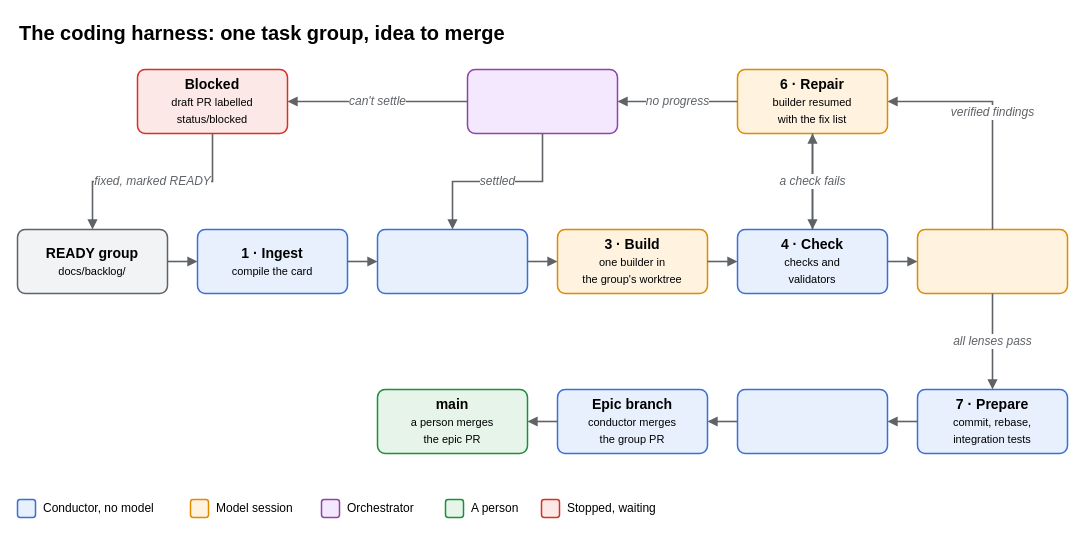
Some shapes in this 1086 by 537 pixel diagram are drawn without their labels. The shapes that lost their labels are listed below. From the top down, each one's box as (x1, y1, x2, y2) in pixels, then its label:
(466, 68, 618, 134): Orchestrator settles stops
(376, 228, 528, 294): 2 · Coordinate worktree, context, pacing
(916, 228, 1068, 294): 5 · Review parallel lenses, fresh context
(736, 388, 888, 454): 8 · Ship push, draft PR, labels
